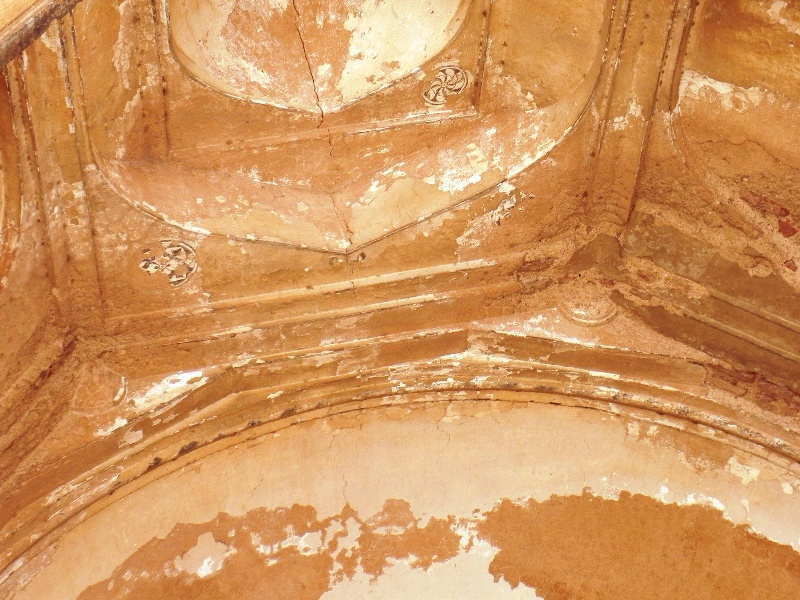Crack: (292, 4, 326, 127)
Exposed Bricks: (708, 360, 799, 412)
